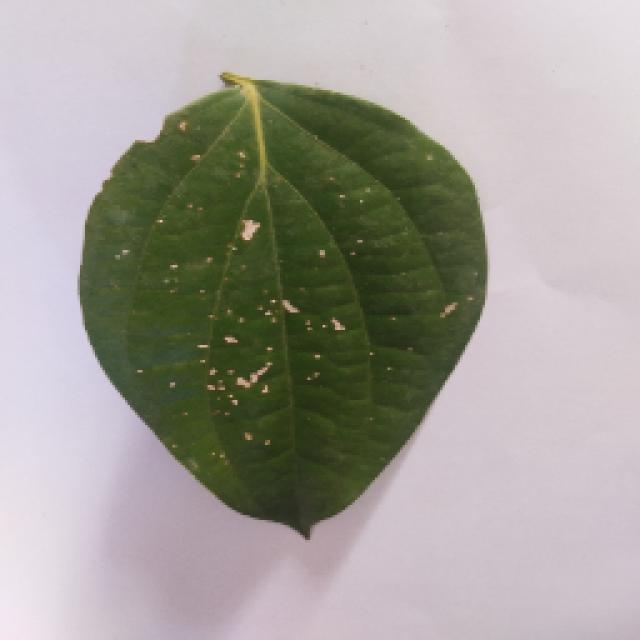pollu-disease: (75, 70, 485, 538)
